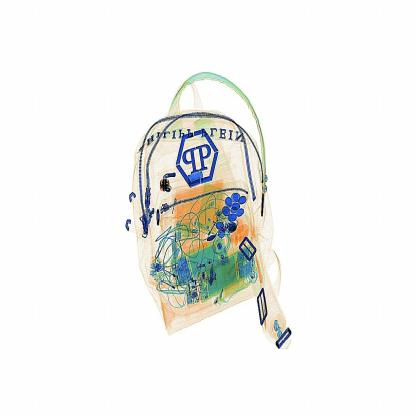scissors: (158, 168, 177, 205)
